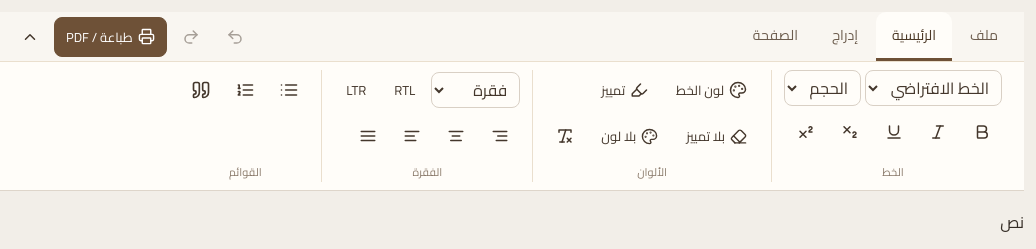
ribbon › collapses and expands the panel
Click the button named "إخفاء الأدوات" at (30, 36), box [10,16,50,56]
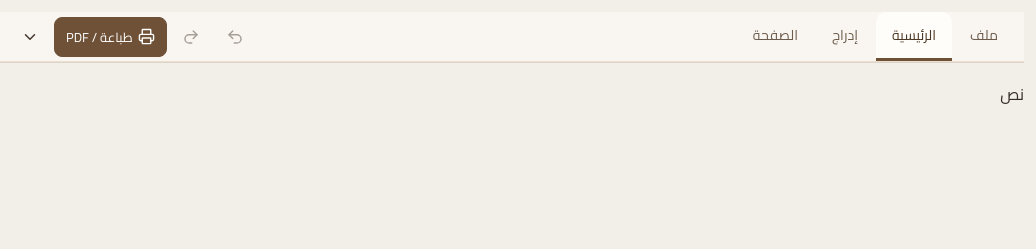
Check: the panel with class "rb-panel" is gone
Click the button named "إظهار الأدوات" at (30, 36), box [10,16,50,56]
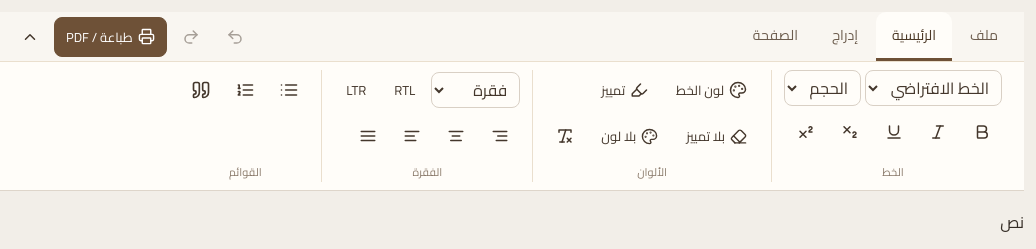
Check: the panel with class "rb-panel" is shown, box [181,70,1014,182]
